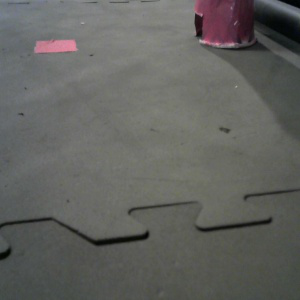Right: (190, 1, 260, 49)
